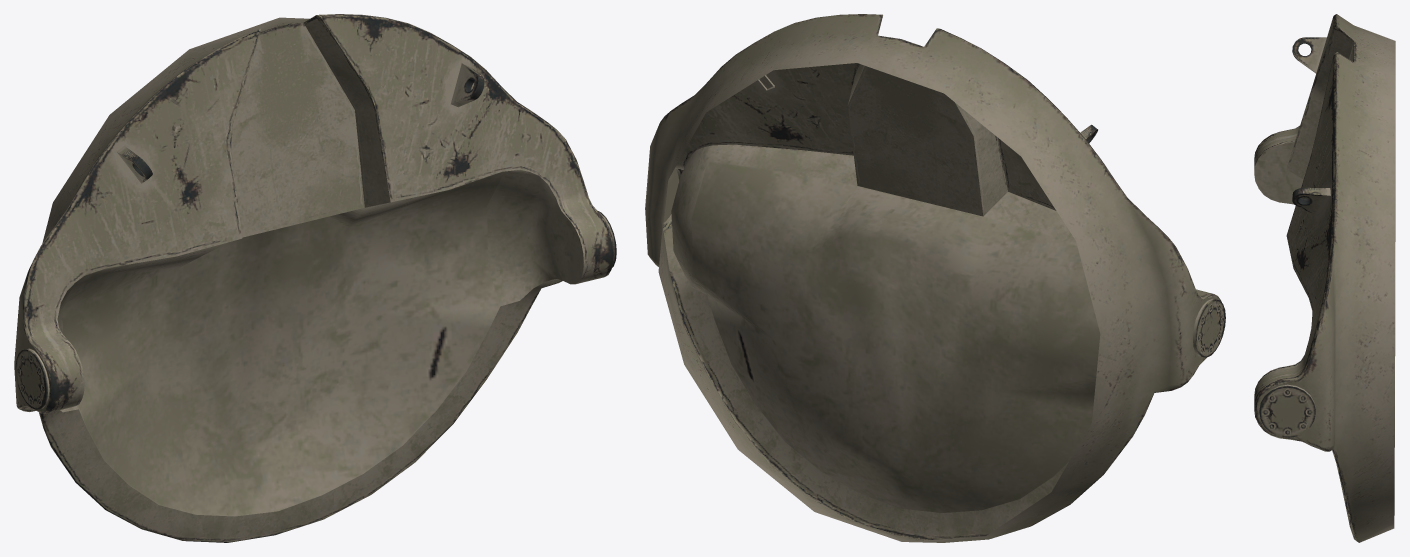
File: Turret_01.glb
The picture shows the model from 3 angles, left to right: view 1: azimuth 30°, elevation 25°; view 2: azimuth 150°, elevation 25°; view 3: azimuth 270°, elevation 25°; orthographic projection. The views are drawn at different scales.
Parts seen in each view (by area): view 1: set_0_group_0; view 2: set_0_group_0; view 3: set_0_group_0.
Part boxes in pixels (bbox=[...]): set_0_group_0: bbox=[14, 14, 616, 542]; set_0_group_0: bbox=[645, 14, 1225, 542]; set_0_group_0: bbox=[1254, 14, 1395, 542].
Bounding box in the file's own units: 2.51 × 2.2 × 0.5899.
Materials: 1 (1 with a texture image).
